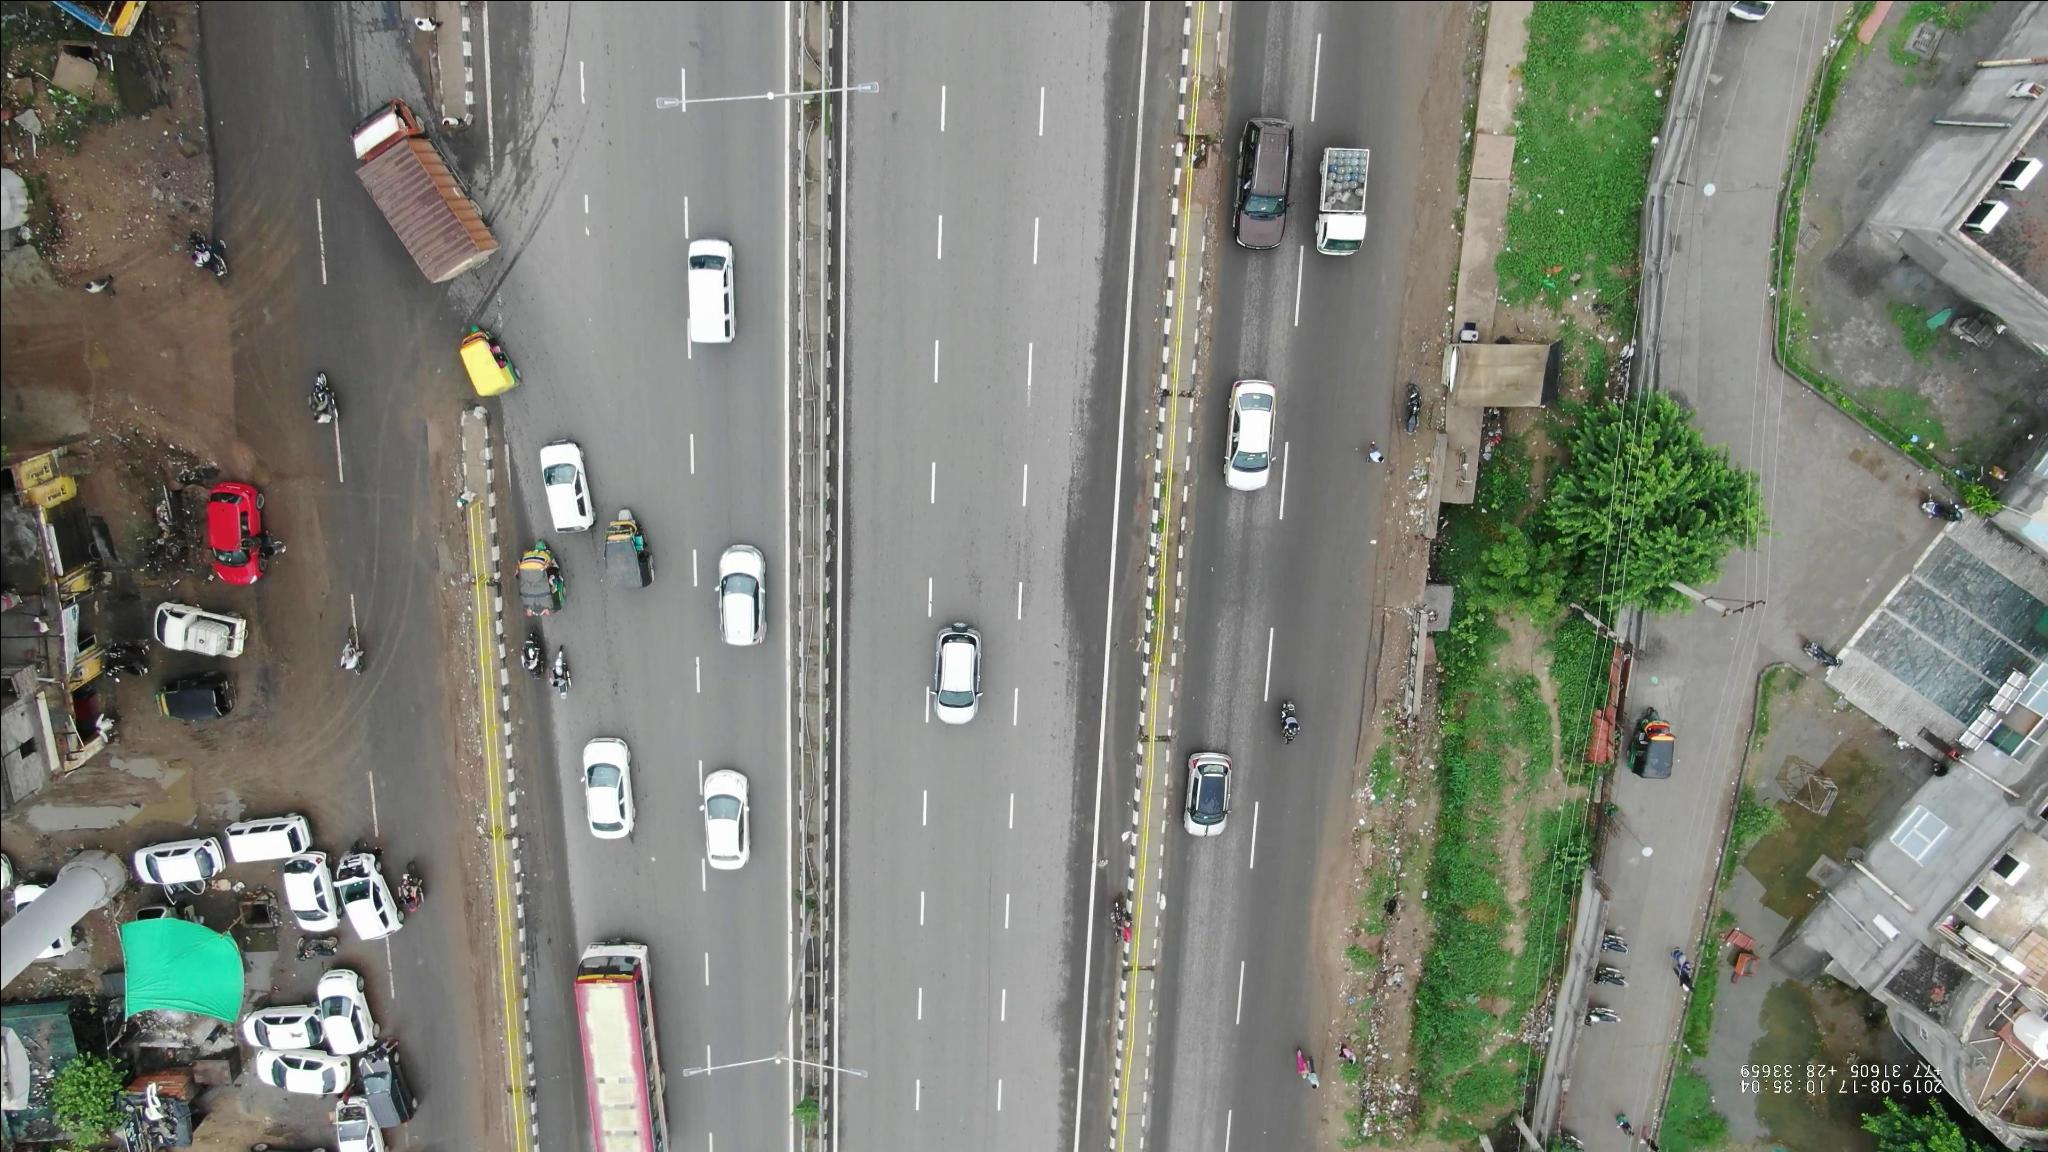Muddy_road: (1376, 201, 1464, 422), (1404, 15, 1478, 191), (1360, 452, 1433, 619), (421, 578, 477, 769), (437, 776, 495, 951), (409, 421, 463, 557)
